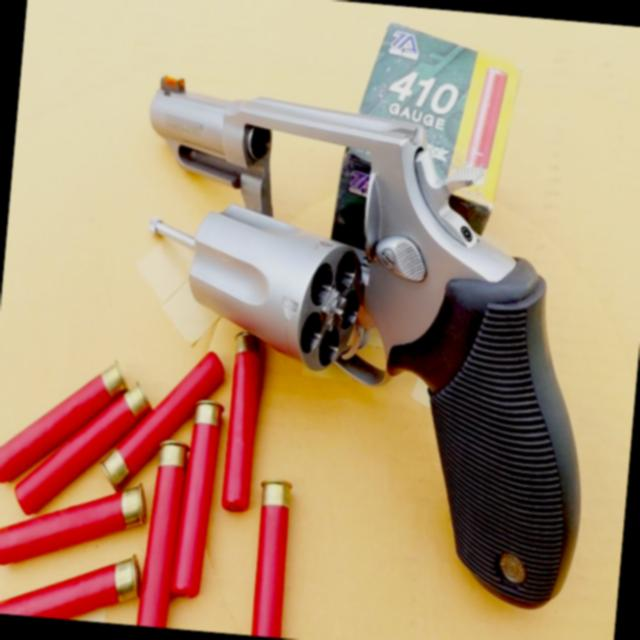revolver: (0, 0, 634, 623)
